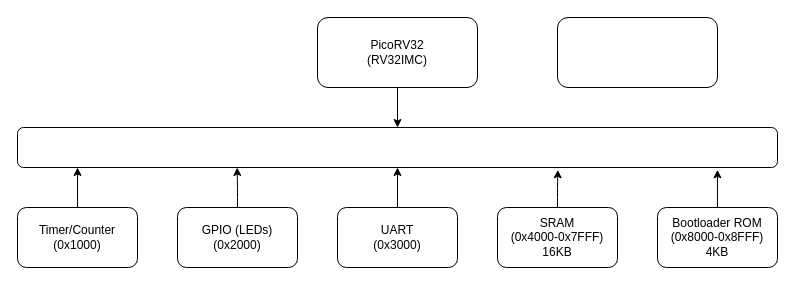
This 795x285 diagram has some shape labels left out. The box of each missing label's shape, as (x1, y1, x2, y2) in pixels:
AXI4-Lite Crossbar (PULP Platform): (16, 126, 778, 168)
CCR (Clock and reset generator, vendor specific PLL wrapper): (556, 16, 718, 88)
